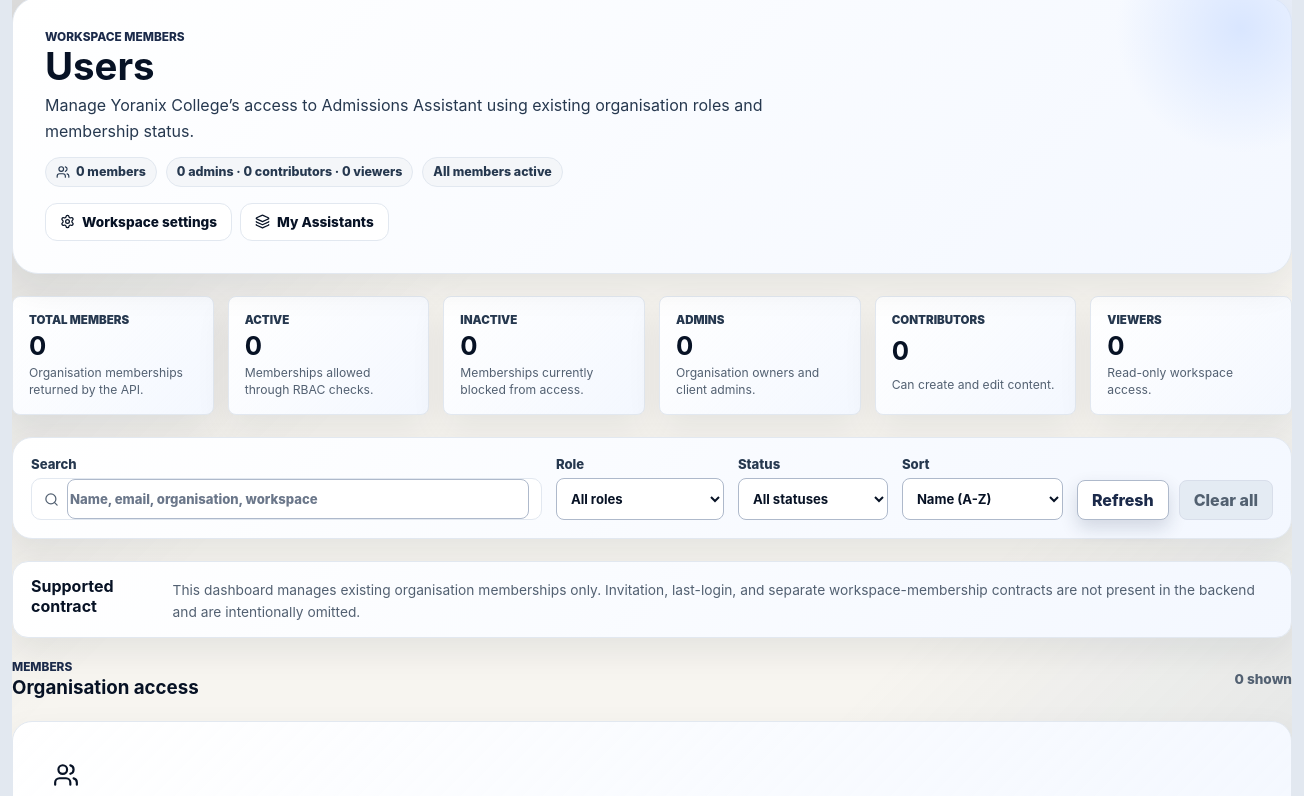
it: UsersManagementClient › shows refresh errors and an empty state when there are no members
Click the button "Refresh".
click(1123, 500)  # box 1077,480 -> 1169,520
(page scrolled)
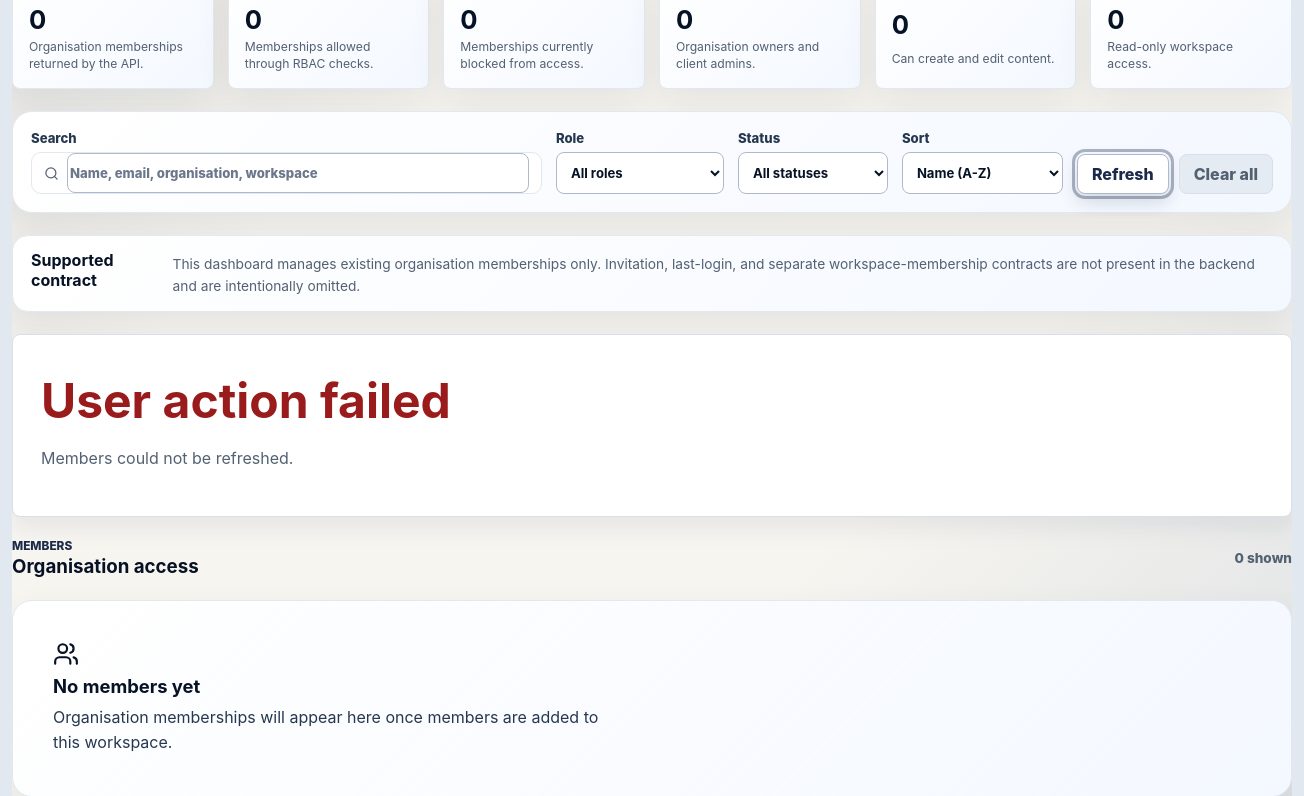
expect the message "User action failed Members could not be refreshed." is shown: met, box 12,334 -> 1292,516
